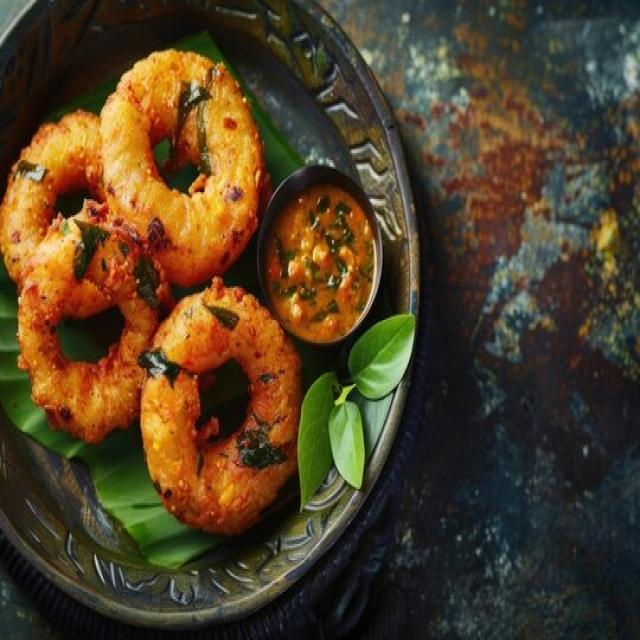MEDU VADA: (101, 51, 272, 288), (1, 114, 117, 301)
